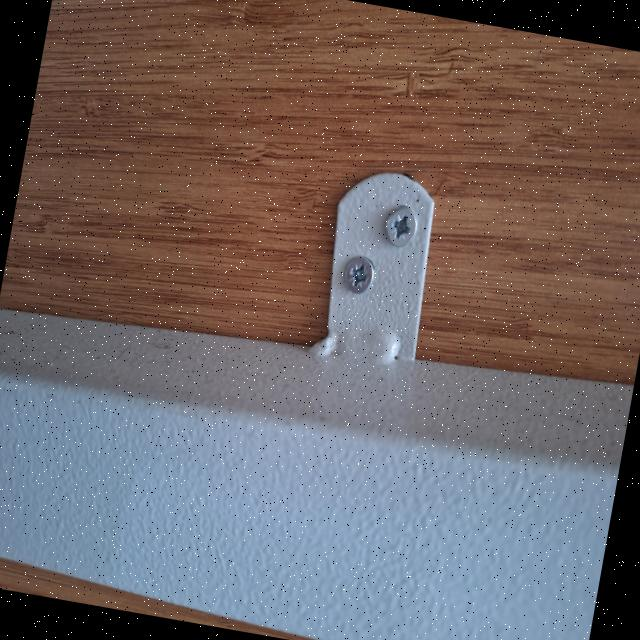Pozidriv: (382, 204, 421, 251), (341, 254, 375, 296)
